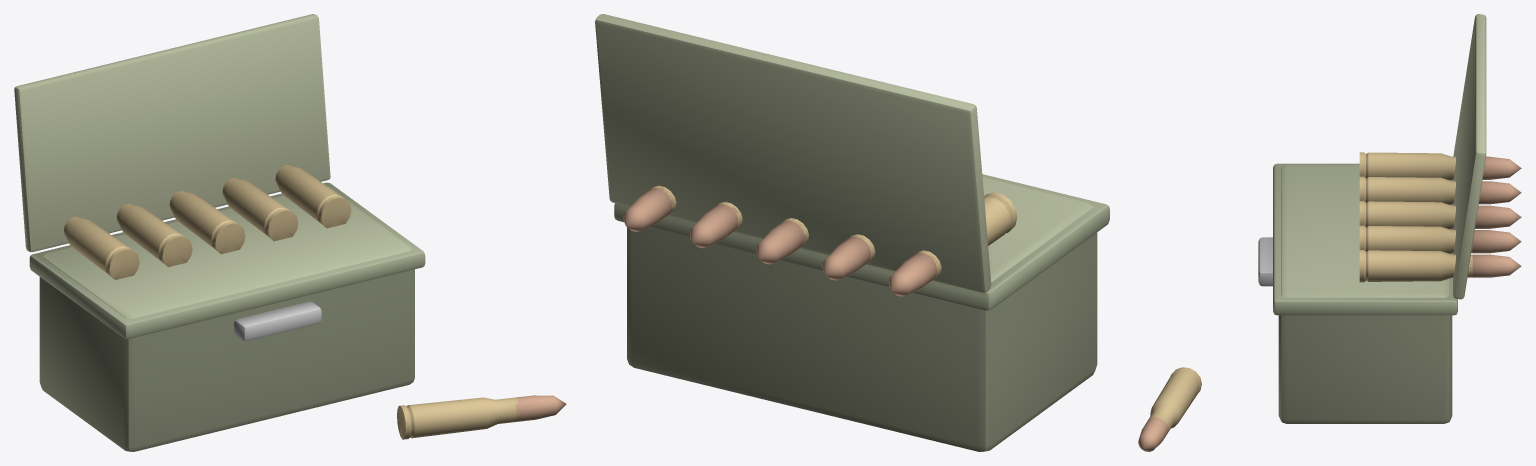
File: rifle-ammo.glb
3 renders of one model, left to right at view 1: azimuth 30°, elevation 25°; view 2: azimuth 150°, elevation 25°; view 3: azimuth 270°, elevation 25°, orthographic. The views are drawn at different scales.
Parts seen in each view (by area): view 1: Body_lod0; view 2: Body_lod0; view 3: Body_lod0.
Part boxes in pixels (bbox=[...]): Body_lod0: bbox=[14, 14, 566, 451]; Body_lod0: bbox=[595, 14, 1109, 451]; Body_lod0: bbox=[1138, 14, 1521, 451].
Size of what is drawn, in the model's own units: 0.1411 by 0.1059 by 0.1326.
